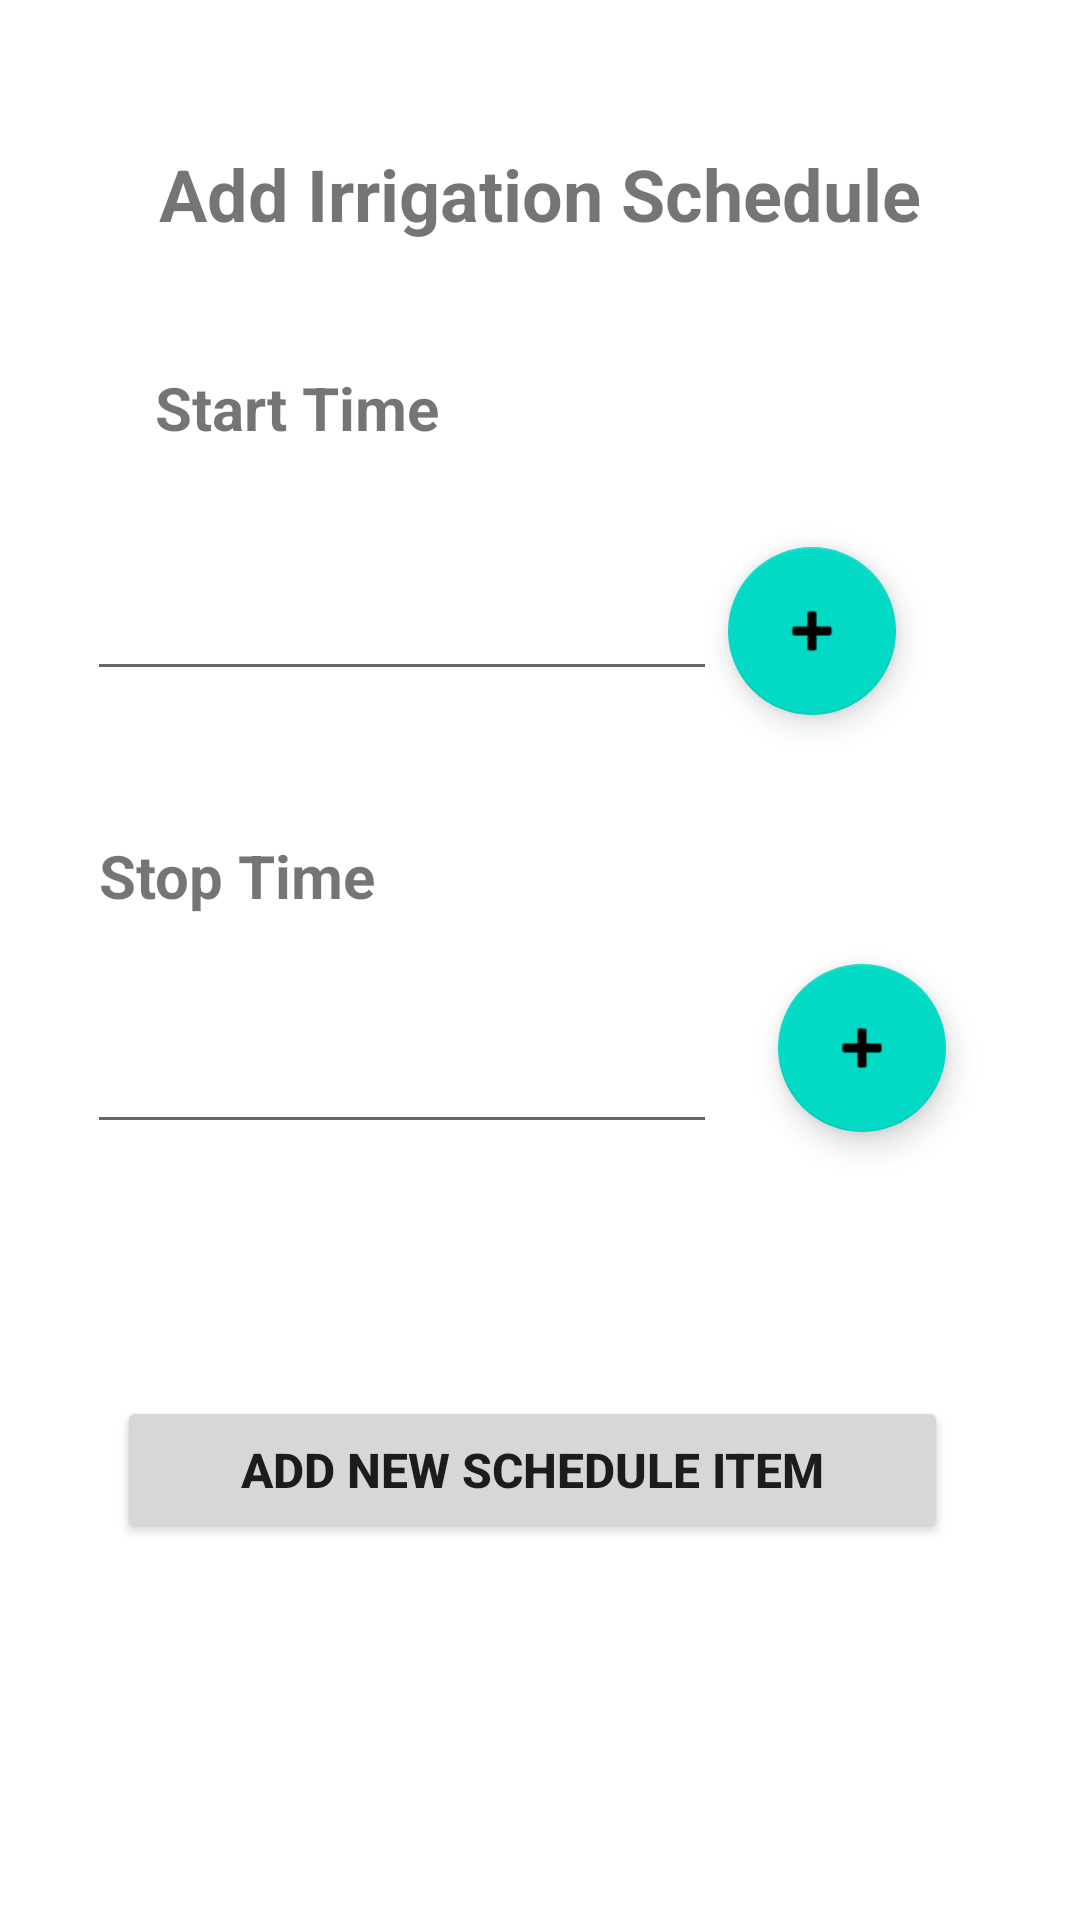

Icons on this 1080px×1920px Android screen, each with the point to tap as (x,y):
add: (812,631), (862,1048)
